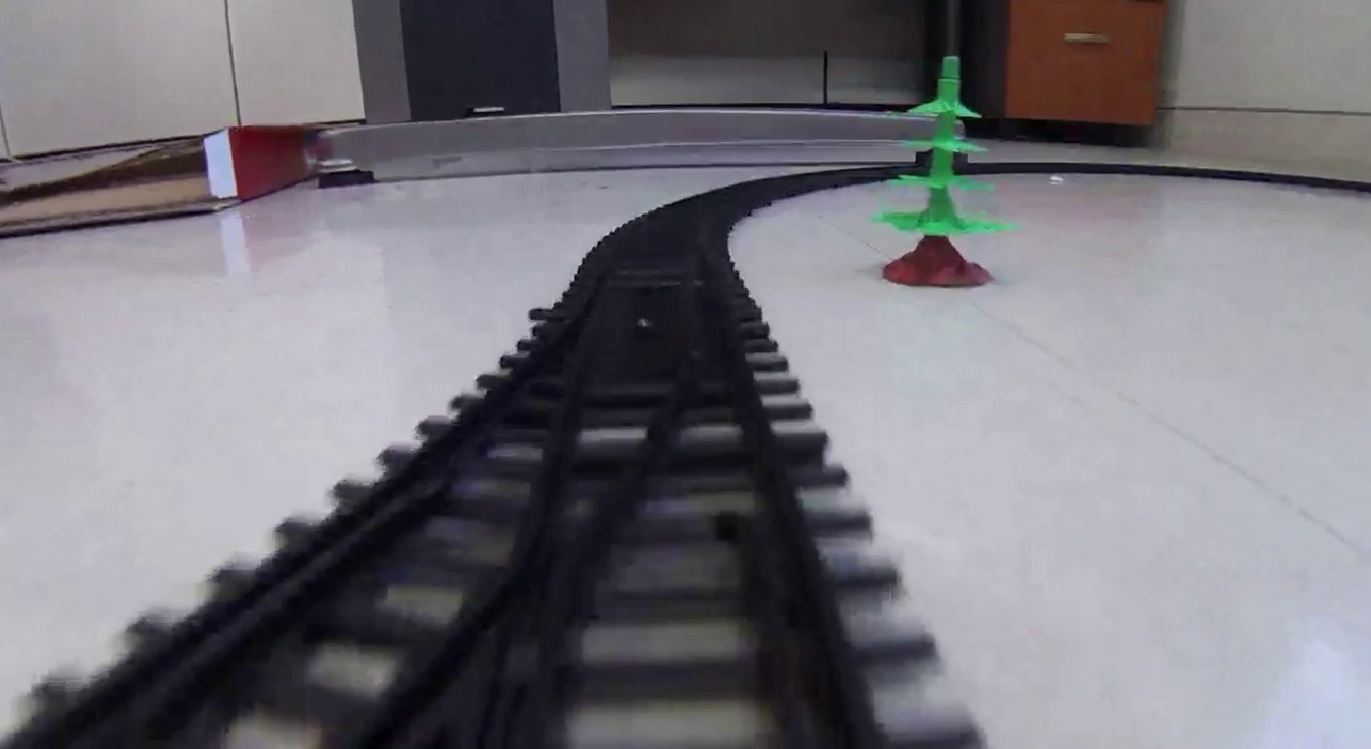tree: (876, 54, 1020, 288)
